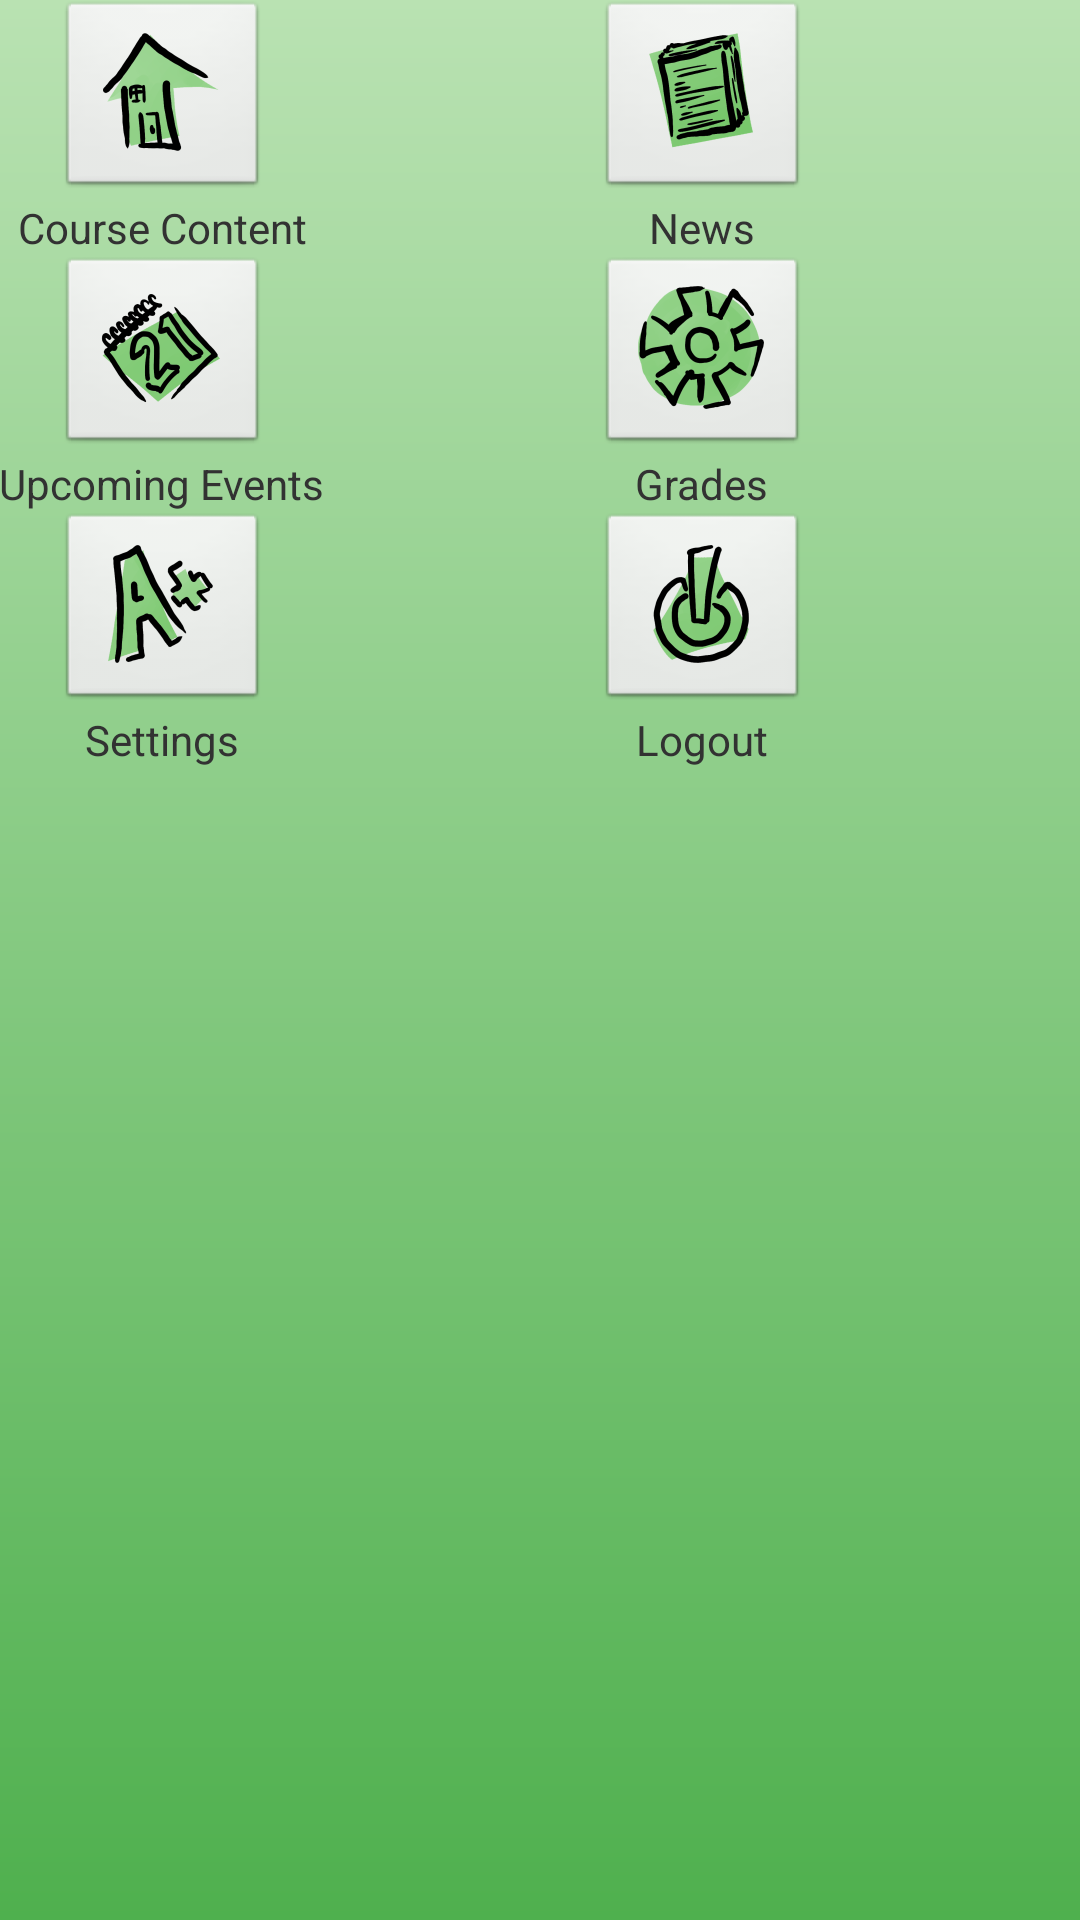

Where icons sit on this 1080px×1920px app screen, as (x1, y1, x2, y2):
calendar: (66, 260, 259, 442)
grades: (66, 516, 259, 698)
settings: (606, 260, 799, 442)
